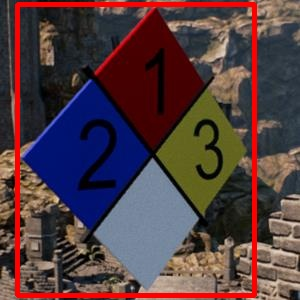nfpa: (17, 4, 254, 295)
